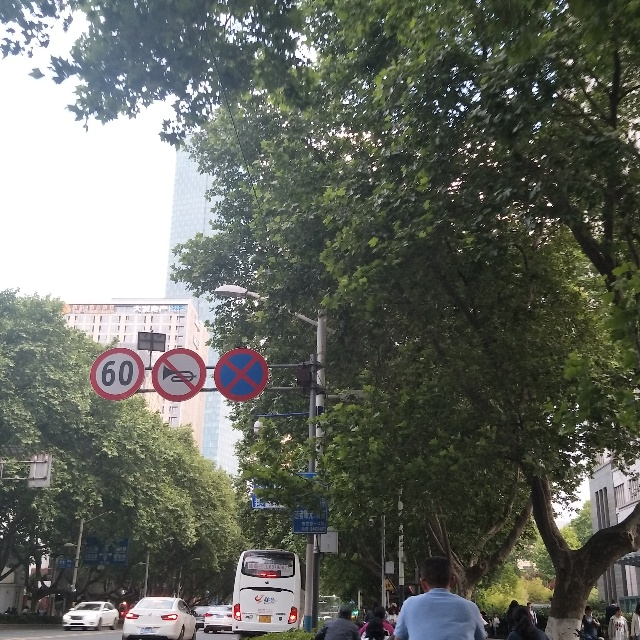nohonk: (153, 347, 200, 398)
stop: (222, 350, 265, 398)
